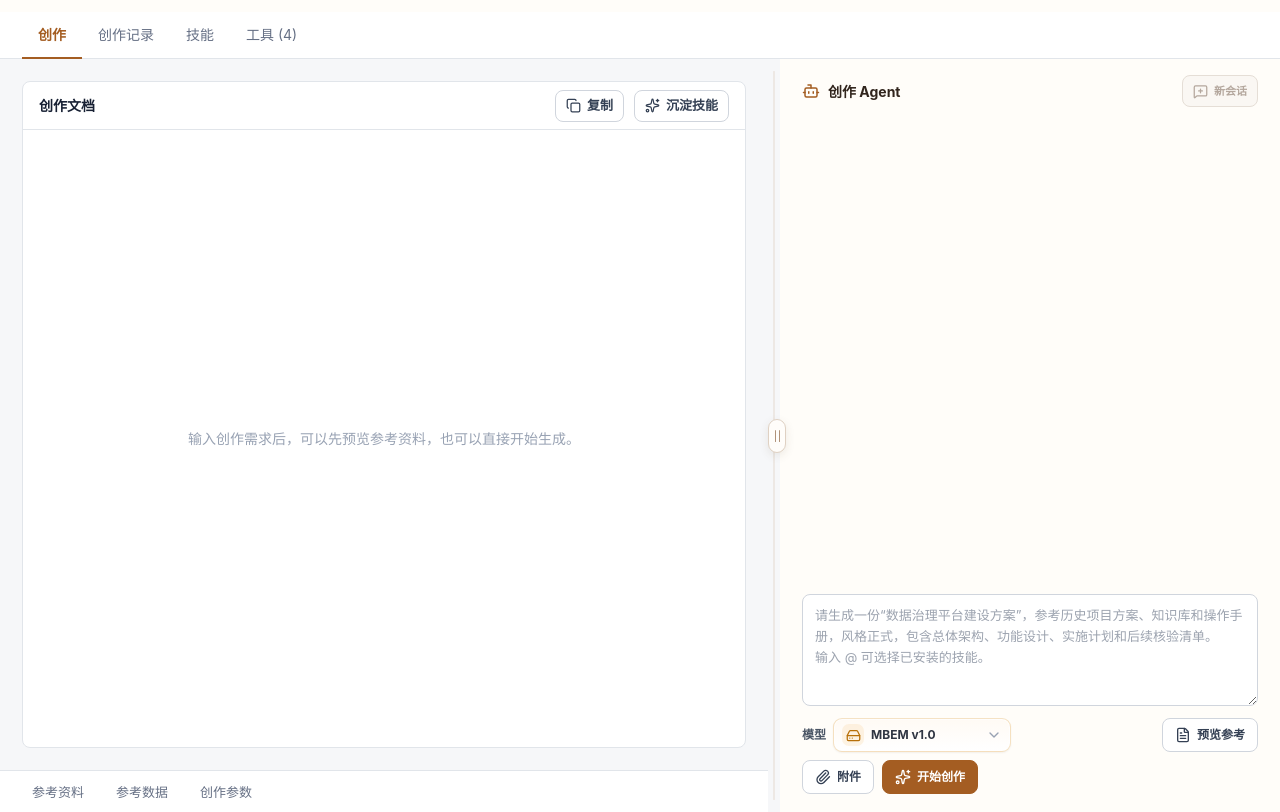
Test: 创作 Agent 多轮 Loop › 首版生成中的 Agent 内部润色不显示为用户改动
Replace the text in the text box with placeholder "输入 @ 可选择已安装的技能" with "创作一份治理 GPU 利用率的方案文档". click: (1030, 650)
box: [802,594,1258,706]
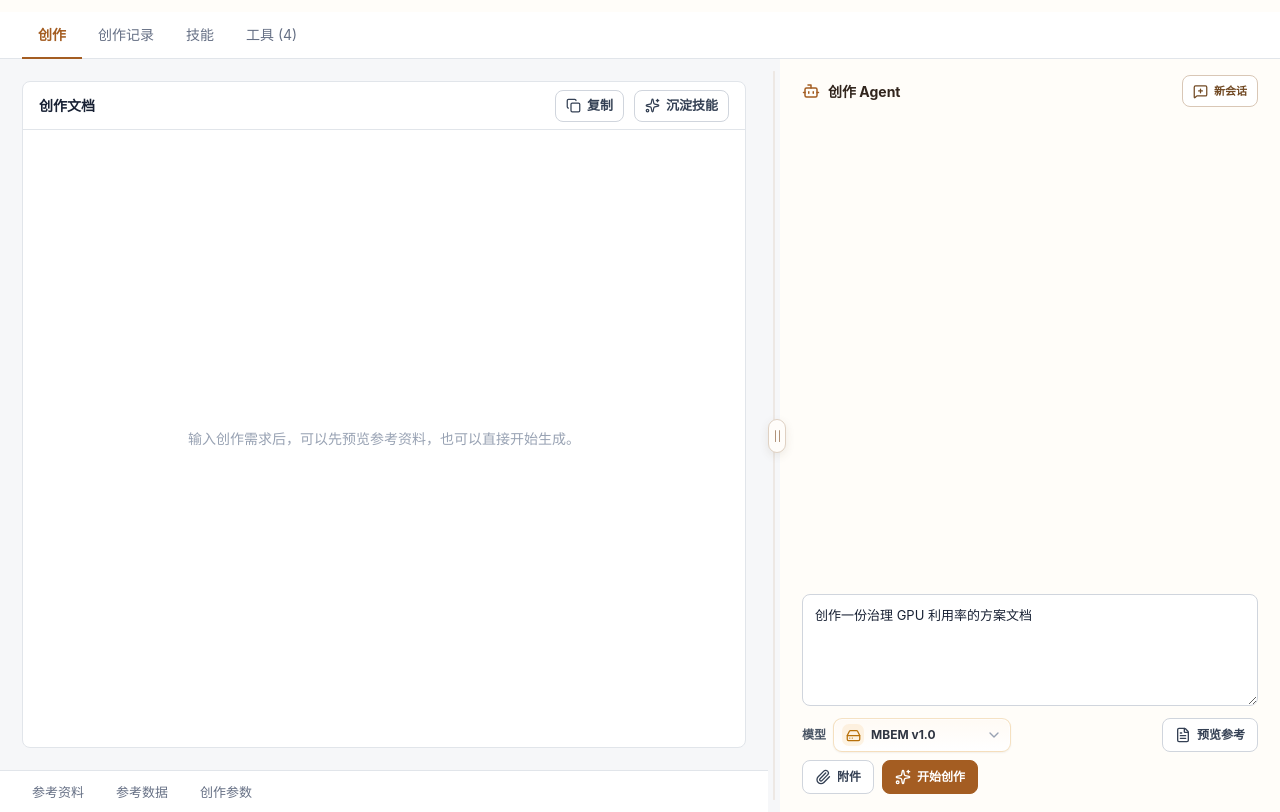
Click the button "开始创作". click: (930, 777)
box: [882,760,978,794]
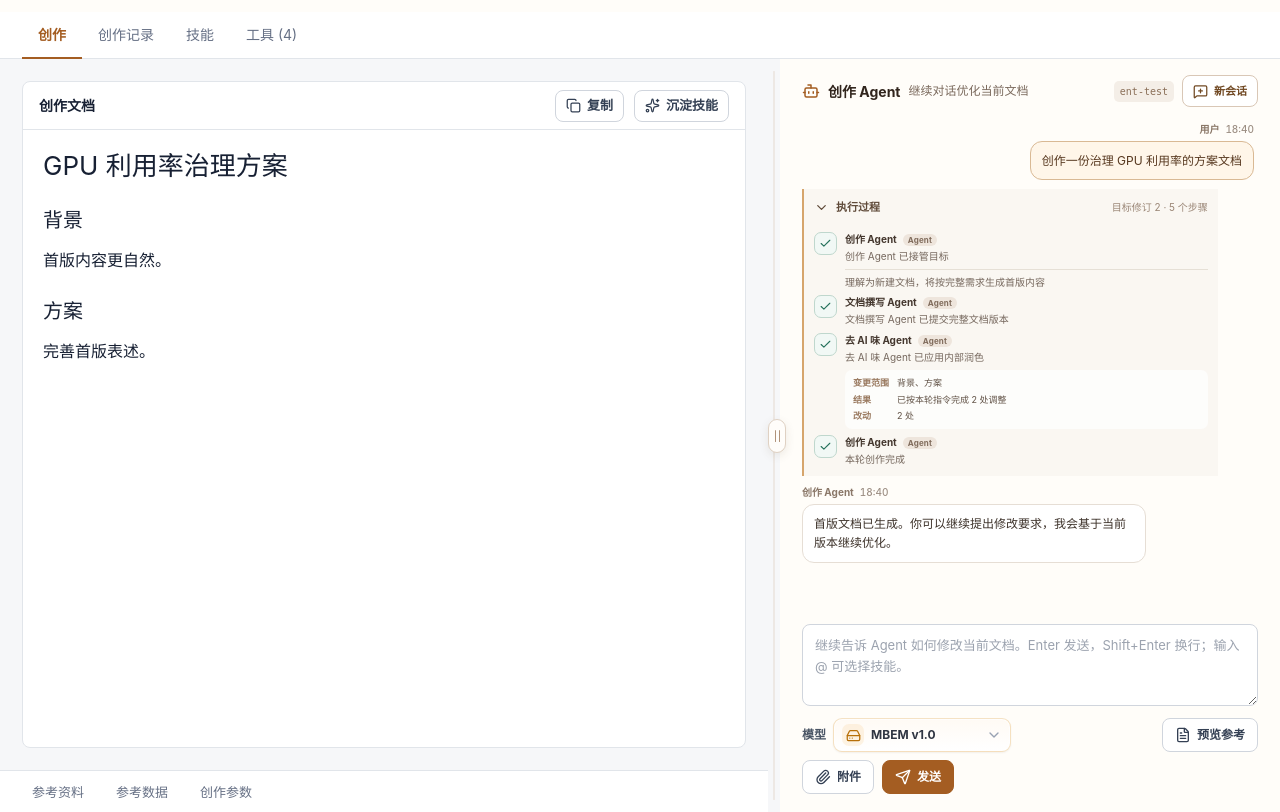
Expected: the element named "Agent 消息" shows "首版文档已生成", [814,516,1126,550]
